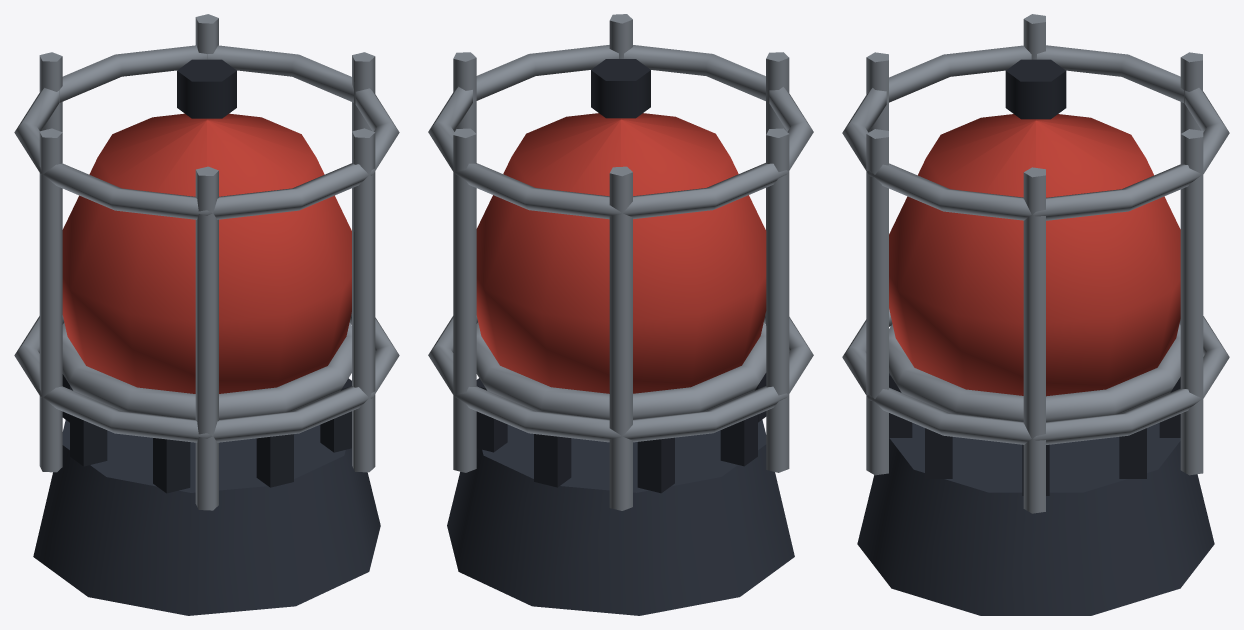
The model's file is alarm_beacon.glb.
3 views of the same model, side by side, from view 1: azimuth 30°, elevation 25°; view 2: azimuth 150°, elevation 25°; view 3: azimuth 270°, elevation 25° (orthographic).
Visible parts, largest first — view 1: alarm_beacon; view 2: alarm_beacon; view 3: alarm_beacon.
Part boxes in pixels (x1=…): alarm_beacon: x1=14, y1=14, x2=399, y2=615; alarm_beacon: x1=428, y1=14, x2=813, y2=615; alarm_beacon: x1=842, y1=14, x2=1229, y2=615.
Bounding box in the file's own units: 0.282 × 0.38 × 0.282.
